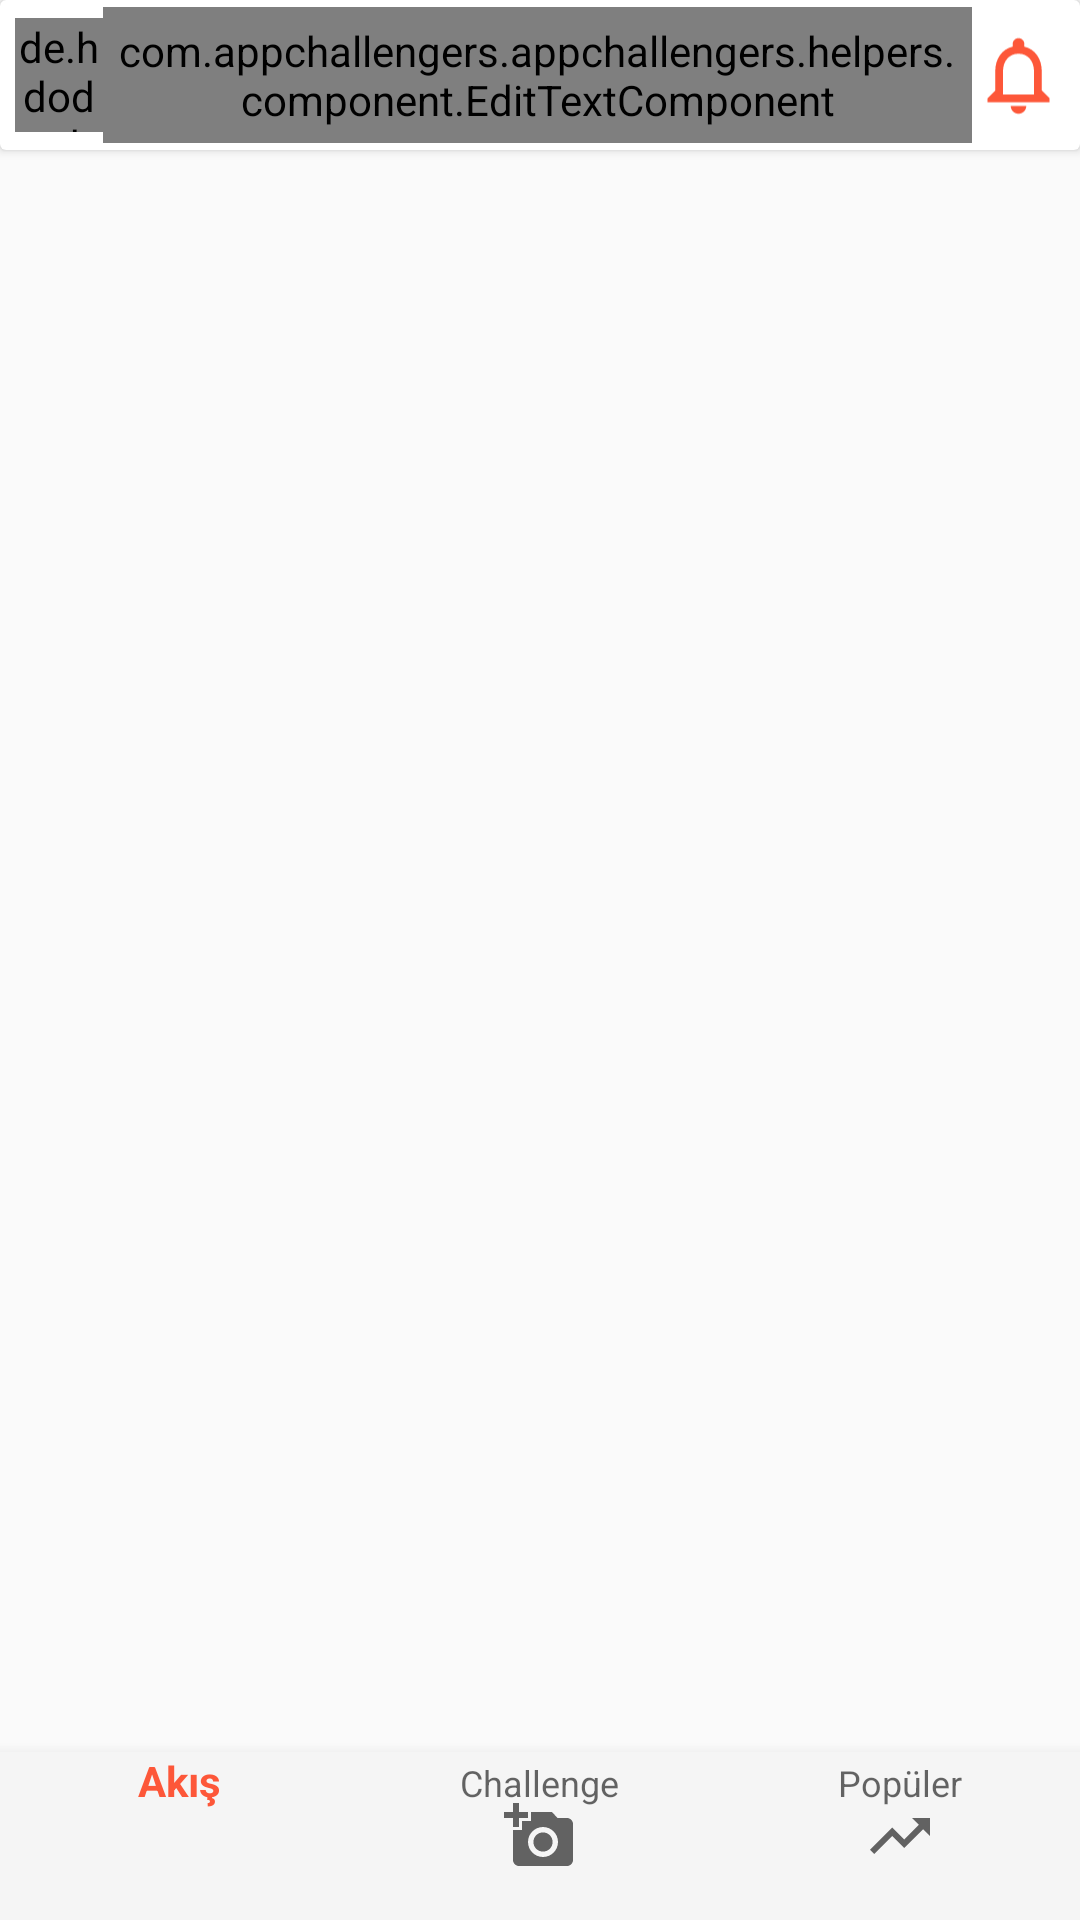

Icons on this 1080 x 1920 Android screen, each with the point to tap as (x=x, y=y):
notifications none: (x=1018, y=76)
